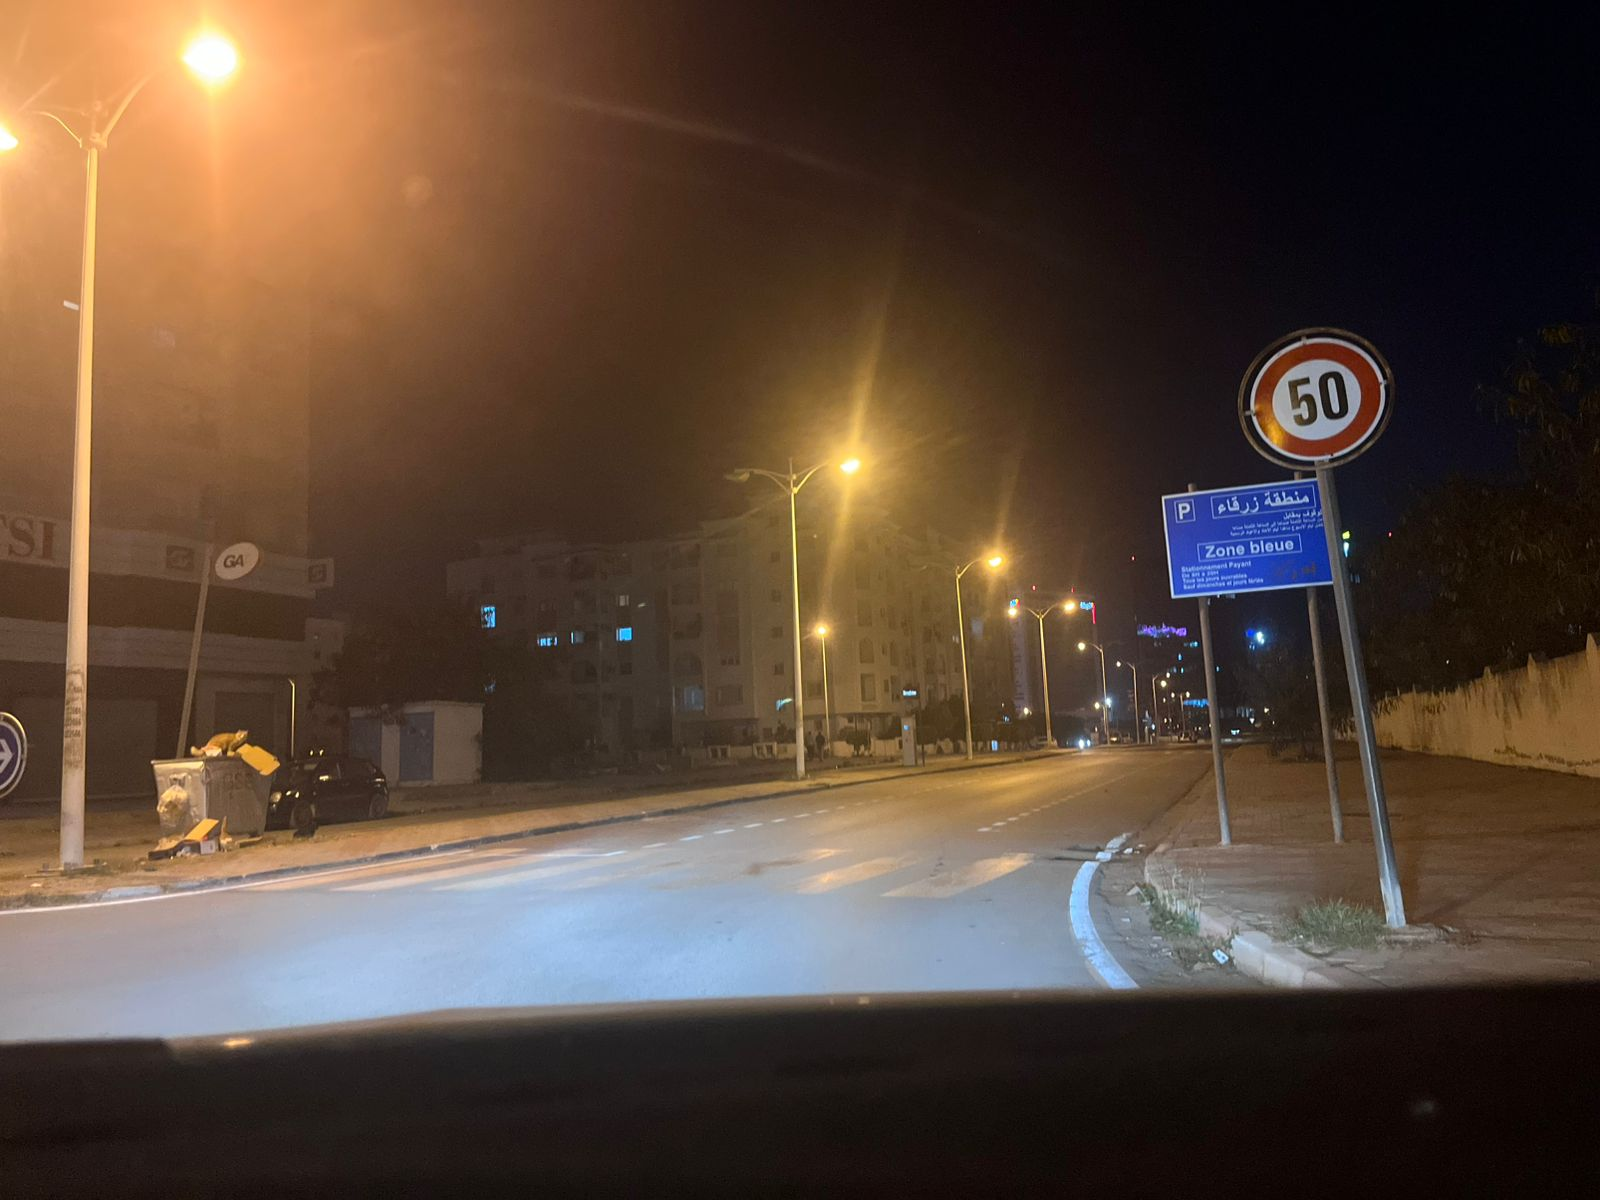SpeedLimit50: (1225, 319, 1403, 476)
